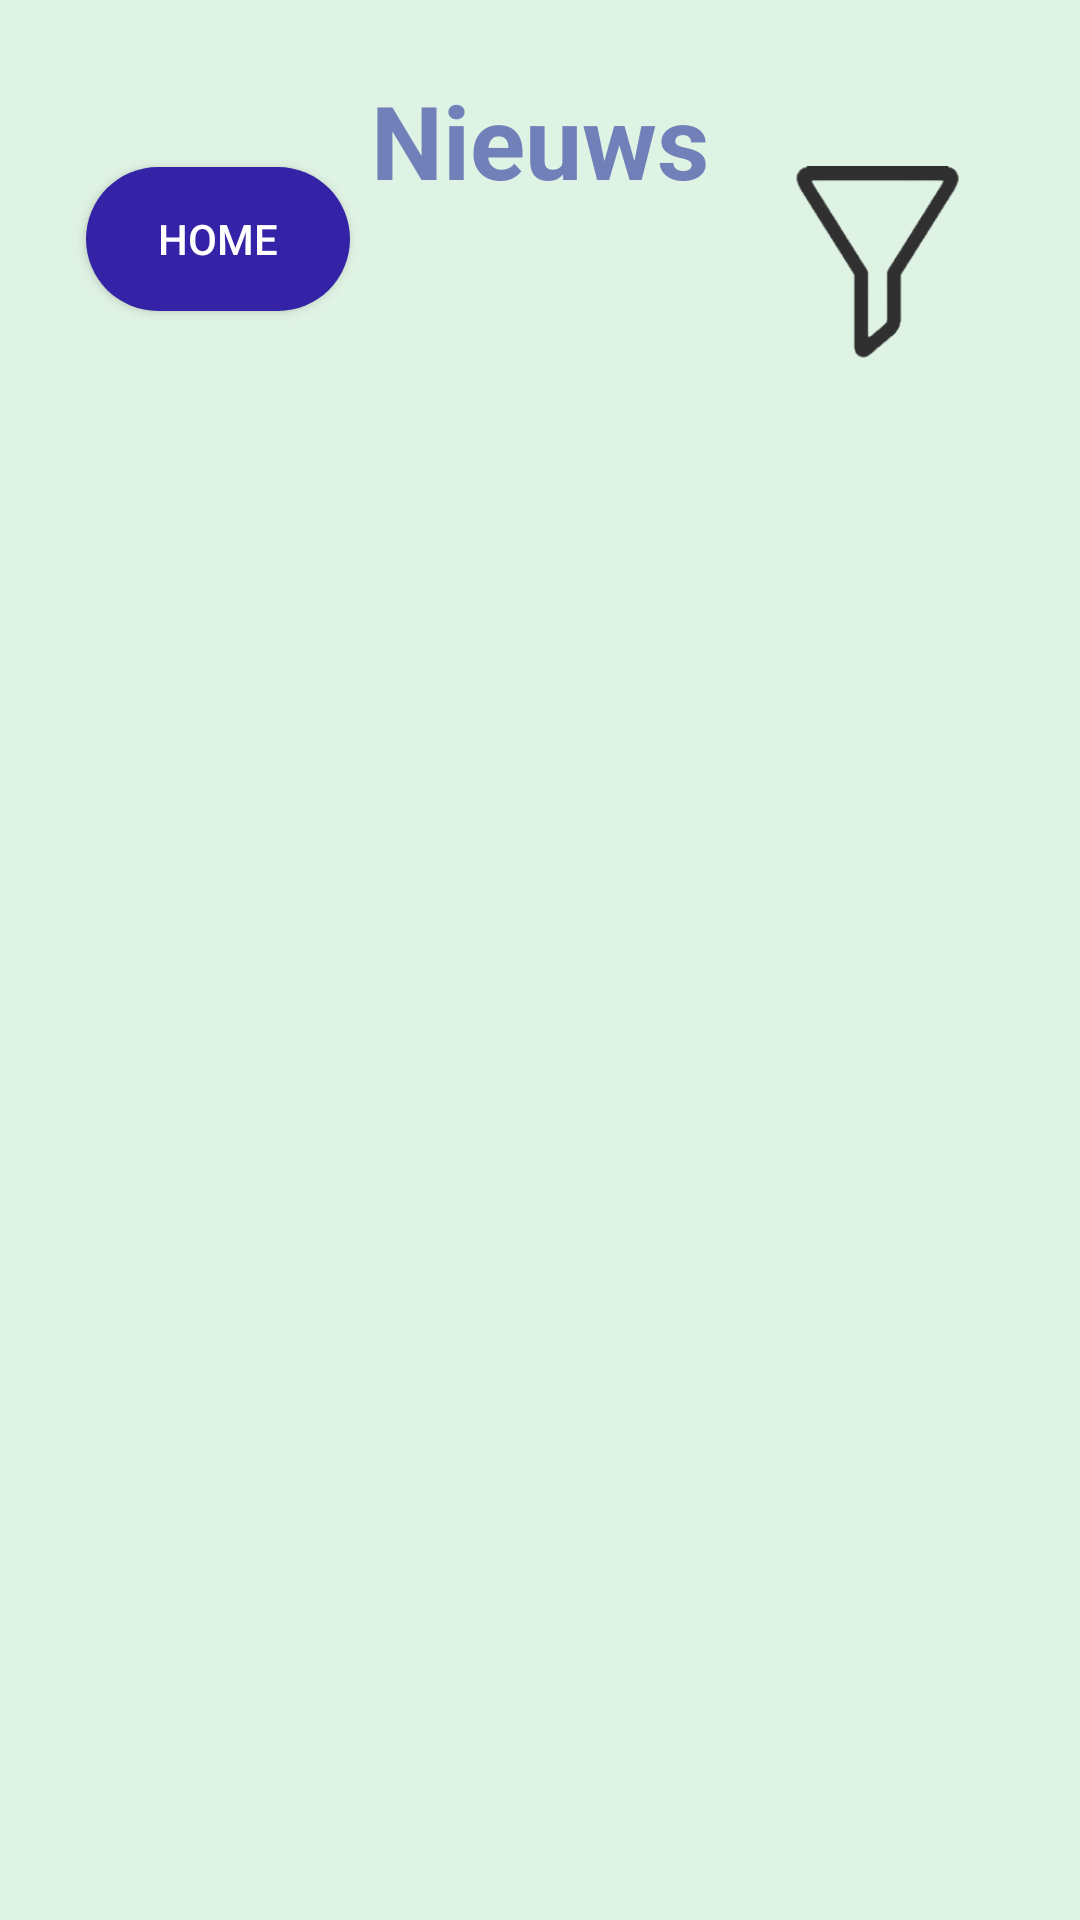

Screen size 1080px x 1920px. Icon name, then its box in pixels as (x1,y1,x2,y2):
categorybutton: (796,166,959,358)
